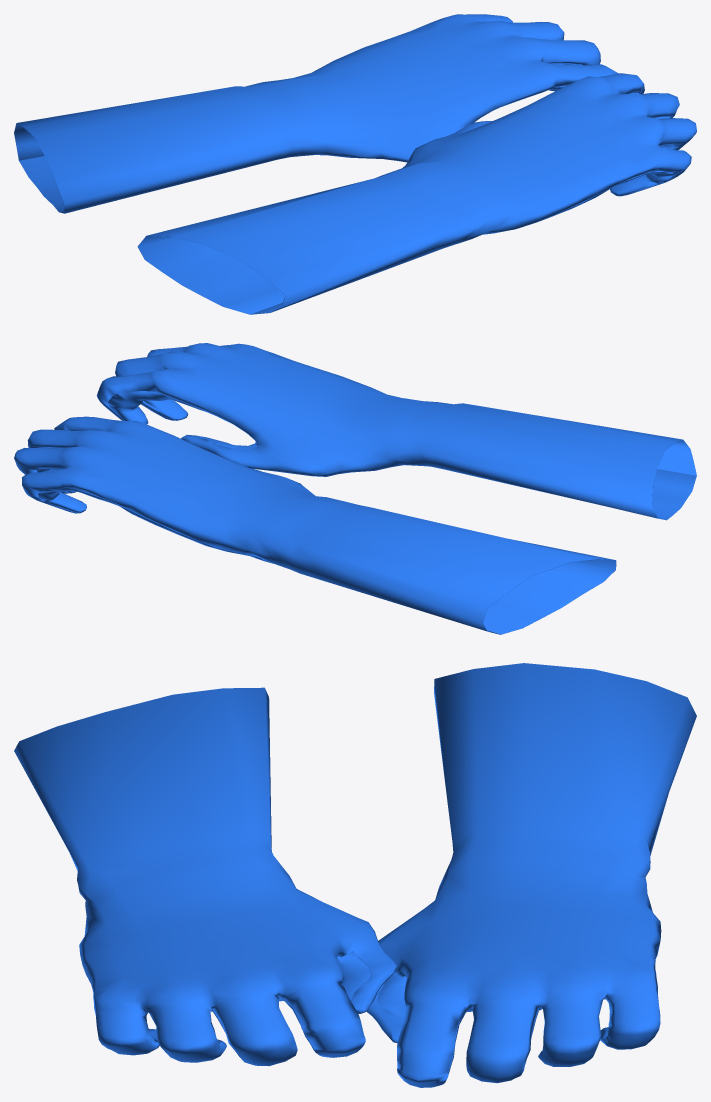
File: chemres_gloves.fbx
The picture shows the model from 3 angles, top to bottom: view 1: azimuth 30°, elevation 25°; view 2: azimuth 150°, elevation 25°; view 3: azimuth 270°, elevation 25°; orthographic projection. The views are drawn at different scales.
Visible parts, largest first — view 1: chemgloves; view 2: chemgloves; view 3: chemgloves.
Boxes of the visible parts, left/top/right/bottom form: chemgloves: left=14, top=14, right=696, bottom=314; chemgloves: left=14, top=343, right=696, bottom=634; chemgloves: left=14, top=663, right=696, bottom=1087.
Bounding box in the file's own units: 1759 × 191 × 1296.
